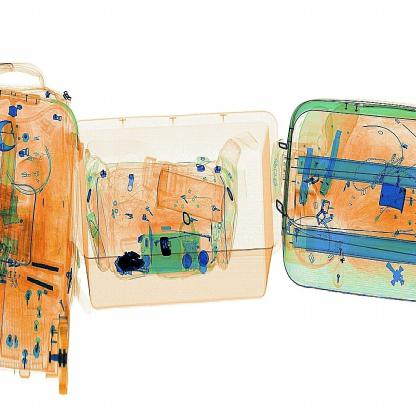pliers: (156, 228, 185, 263)
